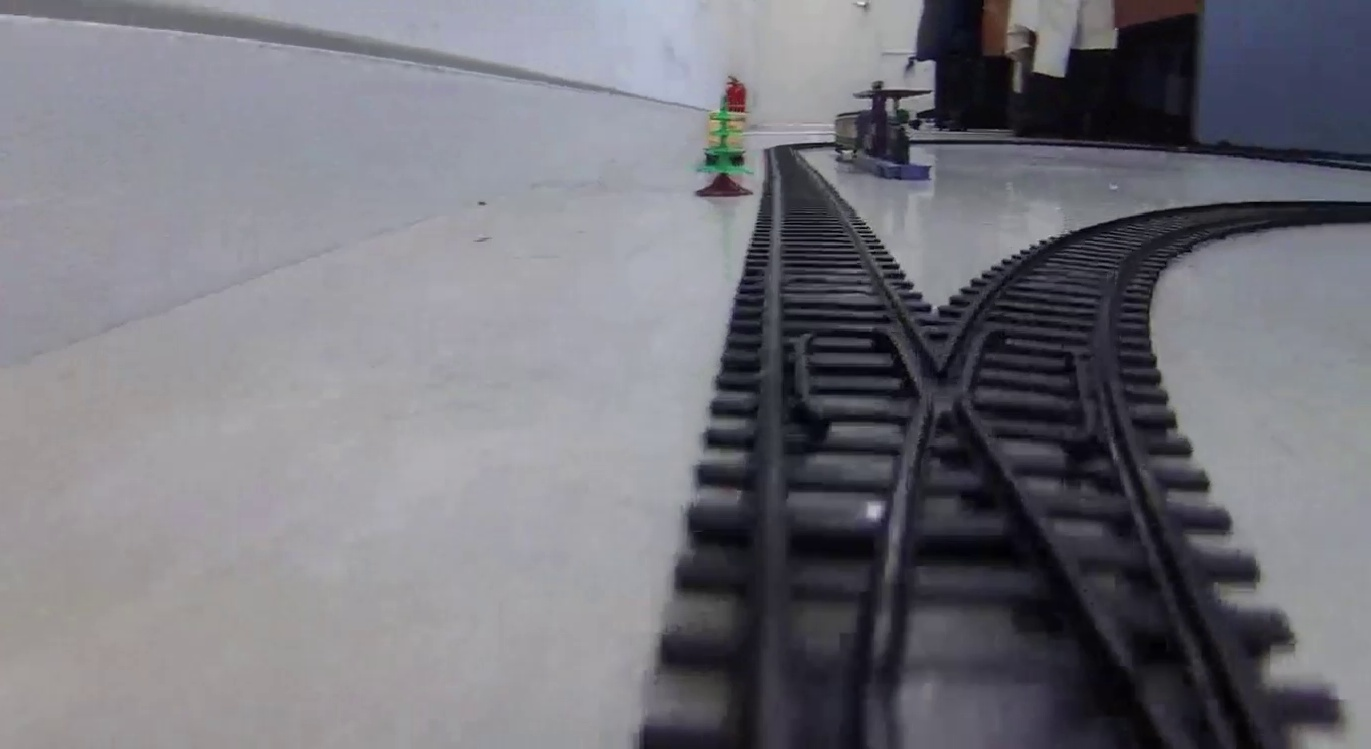tree: (701, 99, 753, 198)
